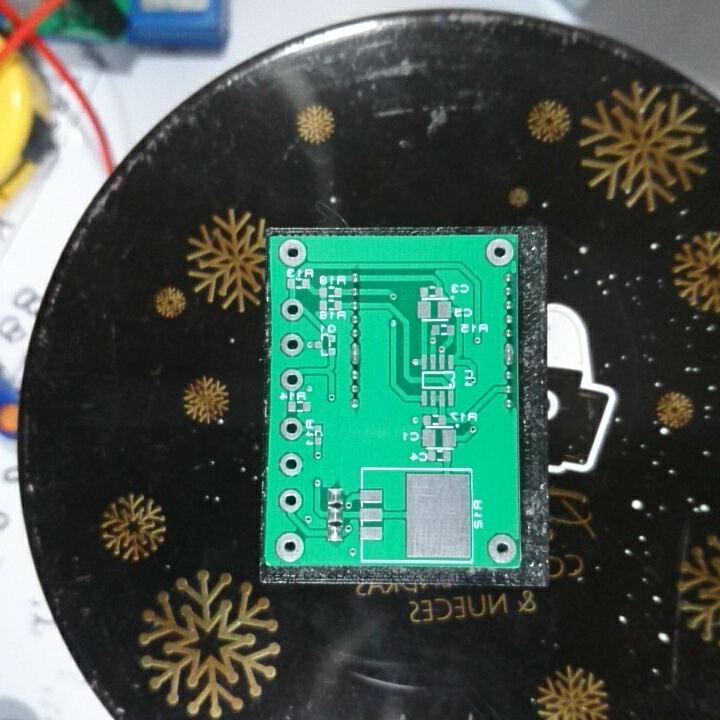F: (485, 531, 519, 566), (275, 236, 310, 269), (273, 531, 307, 563), (482, 236, 516, 267), (278, 415, 307, 444), (276, 486, 304, 515), (276, 450, 304, 478), (279, 296, 306, 323), (279, 329, 304, 357), (280, 368, 307, 392)
P: (501, 340, 521, 368), (348, 338, 366, 369)
